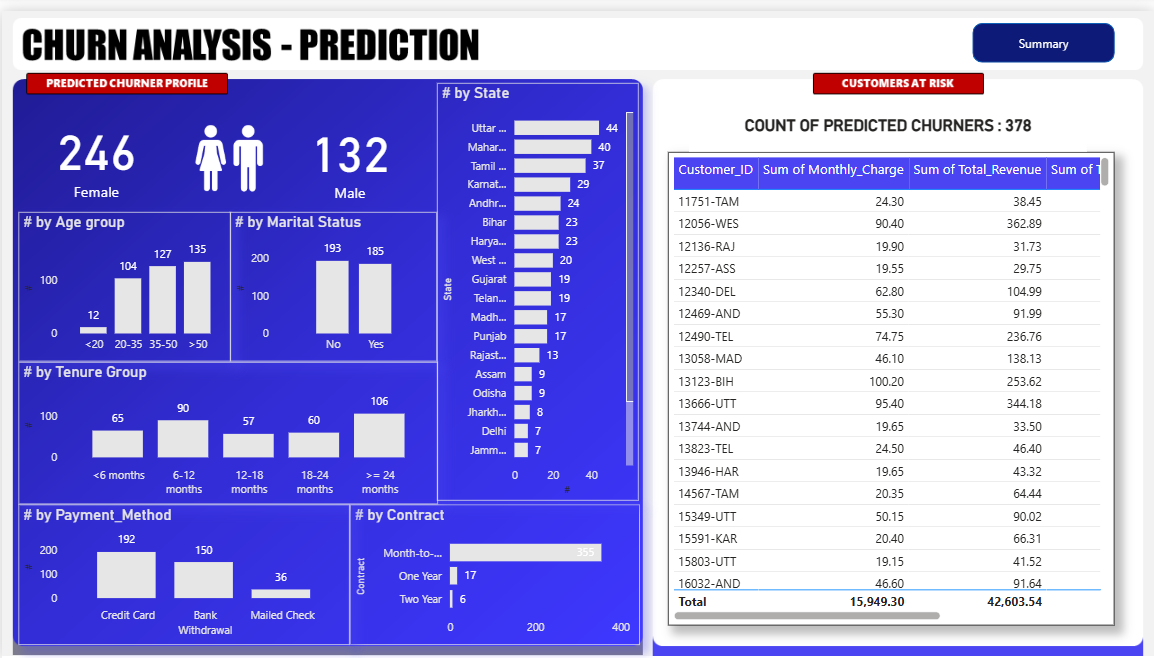

Layout of this report page (visuals, bound fields, positions):
{"tool":"powerbi","page":{"name":"Churn Prediction","canvas":[1280,720],"ordinal":2},"visuals":[{"type":"tableEx","fields":{"Values":["Prediction_Data.Customer_ID","Sum(Prediction_Data.Monthly_Charge)","Sum(Prediction_Data.Total_Revenue)","Sum(Prediction_Data.Total_Refunds)","Sum(Prediction_Data.Number_of_Referrals)"]},"box":[740,156,496,526],"z":0},{"type":"card","fields":{"Values":["Prediction_Data.Title Predicted Churner"]},"box":[764,98,442,58],"z":1000},{"type":"card","fields":{"Values":["Prediction_Data.Count Predicted Churner"]},"box":[32,98,146,126],"z":2000},{"type":"card","fields":{"Values":["Prediction_Data.Count Predicted Churner"]},"box":[314,100,146,126],"z":3000},{"type":"clusteredColumnChart","fields":{"Y":["CountNonNull(Prediction_Data.Customer_ID)"],"Category":["mapping_Agegrp.Age group"]},"box":[18,224,236,166],"z":4000},{"type":"clusteredColumnChart","fields":{"Y":["CountNonNull(Prediction_Data.Customer_ID)"],"Category":["Prediction_Data.Married"]},"box":[254,224,230,166],"z":5000},{"type":"clusteredColumnChart","fields":{"Y":["CountNonNull(Prediction_Data.Customer_ID)"],"Category":["mapping_Tenuregrp.Tenure Group"]},"box":[18,390,466,158],"z":6000},{"type":"clusteredBarChart","fields":{"Category":["Prediction_Data.Contract"],"Y":["CountNonNull(Prediction_Data.Customer_ID)"]},"box":[386,548,322,156],"z":7000},{"type":"clusteredBarChart","fields":{"Y":["CountNonNull(Prediction_Data.Customer_ID)"],"Category":["Prediction_Data.State"]},"box":[484,80,224,464],"z":8000},{"type":"image","box":[200,100,104,126],"z":8001},{"type":"clusteredColumnChart","fields":{"Y":["CountNonNull(Prediction_Data.Customer_ID)"],"Category":["Prediction_Data.Payment_Method"]},"box":[18,548,368,156],"z":8002},{"type":"shape","box":[1078,14,158,44],"z":8003}]}

Visuals, with their boxes in screenshot pixels (x1, y1, x2, y2), scaled from the page's 1280x720 canvas onto the 1154x658 screenshot:
tableEx - Prediction_Data.Customer_ID x Sum(Prediction_Data.Monthly_Charge): Rect(667, 143, 1114, 623)
card - Prediction_Data.Title Predicted Churner: Rect(689, 90, 1087, 143)
card - Prediction_Data.Count Predicted Churner: Rect(29, 90, 160, 205)
card - Prediction_Data.Count Predicted Churner: Rect(283, 91, 415, 207)
clusteredColumnChart - CountNonNull(Prediction_Data.Customer_ID) x mapping_Agegrp.Age group: Rect(16, 205, 229, 356)
clusteredColumnChart - CountNonNull(Prediction_Data.Customer_ID) x Prediction_Data.Married: Rect(229, 205, 436, 356)
clusteredColumnChart - CountNonNull(Prediction_Data.Customer_ID) x mapping_Tenuregrp.Tenure Group: Rect(16, 356, 436, 501)
clusteredBarChart - Prediction_Data.Contract x CountNonNull(Prediction_Data.Customer_ID): Rect(348, 501, 638, 643)
clusteredBarChart - CountNonNull(Prediction_Data.Customer_ID) x Prediction_Data.State: Rect(436, 73, 638, 497)
image: Rect(180, 91, 274, 207)
clusteredColumnChart - CountNonNull(Prediction_Data.Customer_ID) x Prediction_Data.Payment_Method: Rect(16, 501, 348, 643)
shape: Rect(972, 13, 1114, 53)
